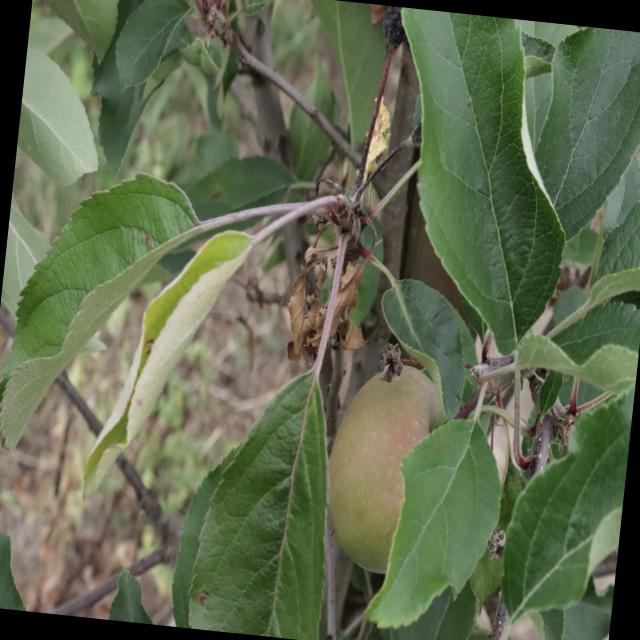-FireBlight-: (288, 165, 384, 362)
